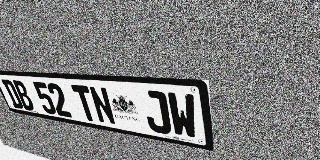2: (45, 83, 72, 118)
5: (32, 82, 58, 115)
B: (11, 80, 36, 111)
D: (1, 79, 25, 109)
J: (141, 90, 172, 135)
N: (88, 86, 117, 125)
T: (71, 84, 99, 122)
W: (166, 92, 199, 140)
